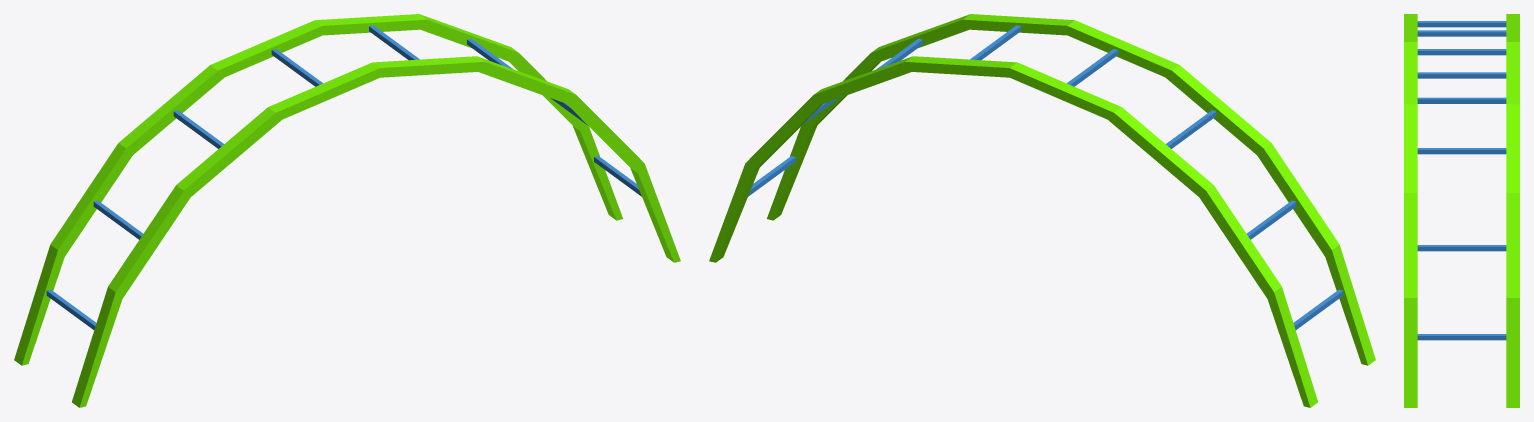
File: Colgadero.fbx
The picture shows the model from 3 angles, left to right: view 1: azimuth 30°, elevation 25°; view 2: azimuth 150°, elevation 25°; view 3: azimuth 270°, elevation 25°; orthographic projection. The views are drawn at different scales.
Visible parts, largest first — view 1: Circle; view 2: Circle; view 3: Circle.
Part boxes in pixels (left/top/right/bottom): Circle: left=14, top=14, right=680, bottom=407; Circle: left=709, top=14, right=1375, bottom=407; Circle: left=1404, top=14, right=1519, bottom=407.
Bounding box in the file's own units: 492 × 208 × 92.78.
